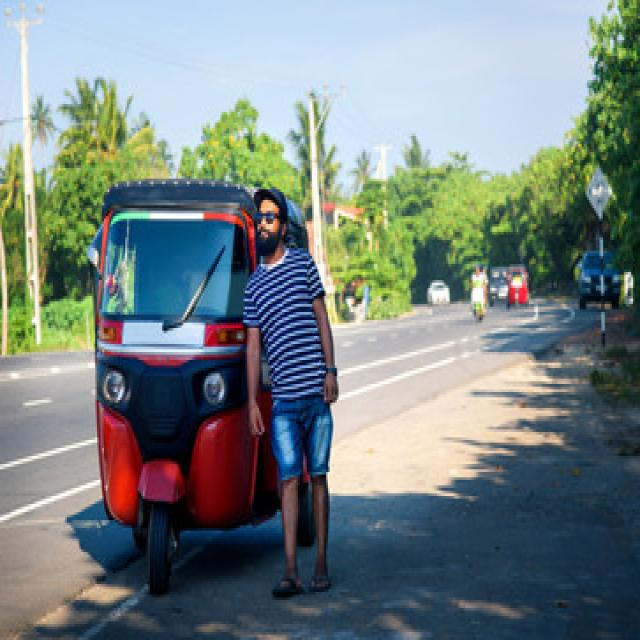car: (428, 280, 448, 304)
motorcycle: (471, 272, 485, 323)
person: (243, 189, 337, 597)
three wheeler: (90, 179, 312, 595), (508, 267, 527, 309)
van: (578, 251, 619, 309), (490, 267, 506, 307)
